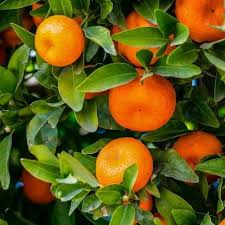orange: (107, 68, 178, 131), (110, 10, 176, 61), (95, 136, 155, 192), (166, 123, 222, 183), (33, 16, 84, 64)
